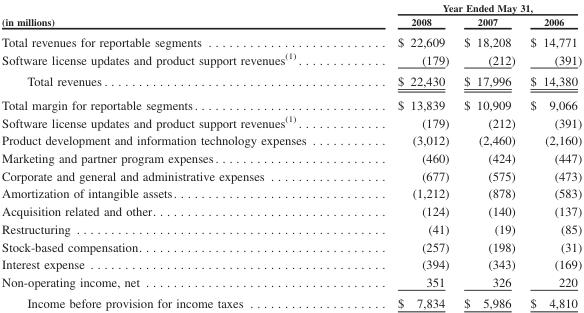table: (1, 1, 581, 310)
table column: (1, 1, 351, 310), (351, 1, 455, 310), (455, 1, 522, 310), (522, 1, 581, 310)
table column header: (1, 1, 581, 30)
table row: (1, 70, 581, 92), (1, 49, 581, 70), (1, 92, 581, 112), (1, 272, 581, 292), (1, 30, 581, 49), (1, 112, 581, 131), (1, 131, 581, 149), (1, 166, 581, 184), (1, 184, 581, 202), (1, 219, 581, 237), (1, 237, 581, 255), (1, 292, 581, 310), (1, 13, 581, 30), (1, 149, 581, 166), (1, 202, 581, 219), (1, 255, 581, 272), (1, 1, 581, 13)
table spanning cell: (1, 1, 351, 30), (351, 1, 581, 13)
